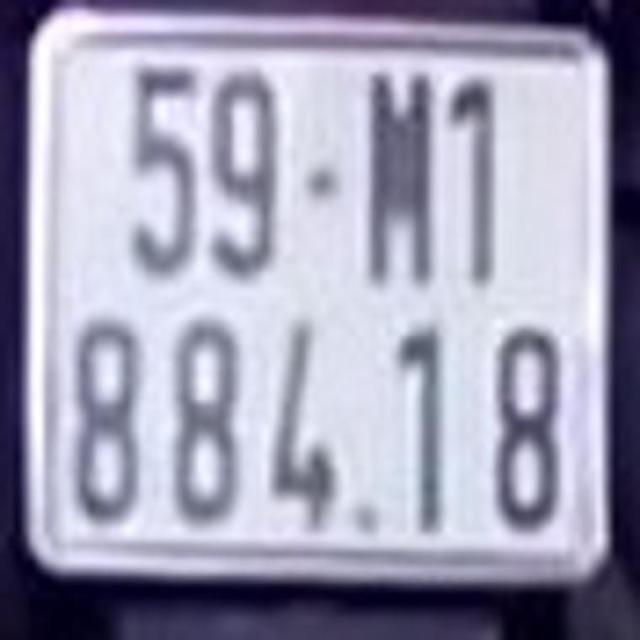1: (450, 76, 500, 283), (400, 326, 445, 533)
4: (276, 327, 334, 528)
5: (130, 63, 198, 275)
8: (74, 318, 139, 523), (498, 328, 560, 531), (175, 322, 235, 522)
9: (210, 70, 277, 278)
M: (368, 68, 434, 286)
